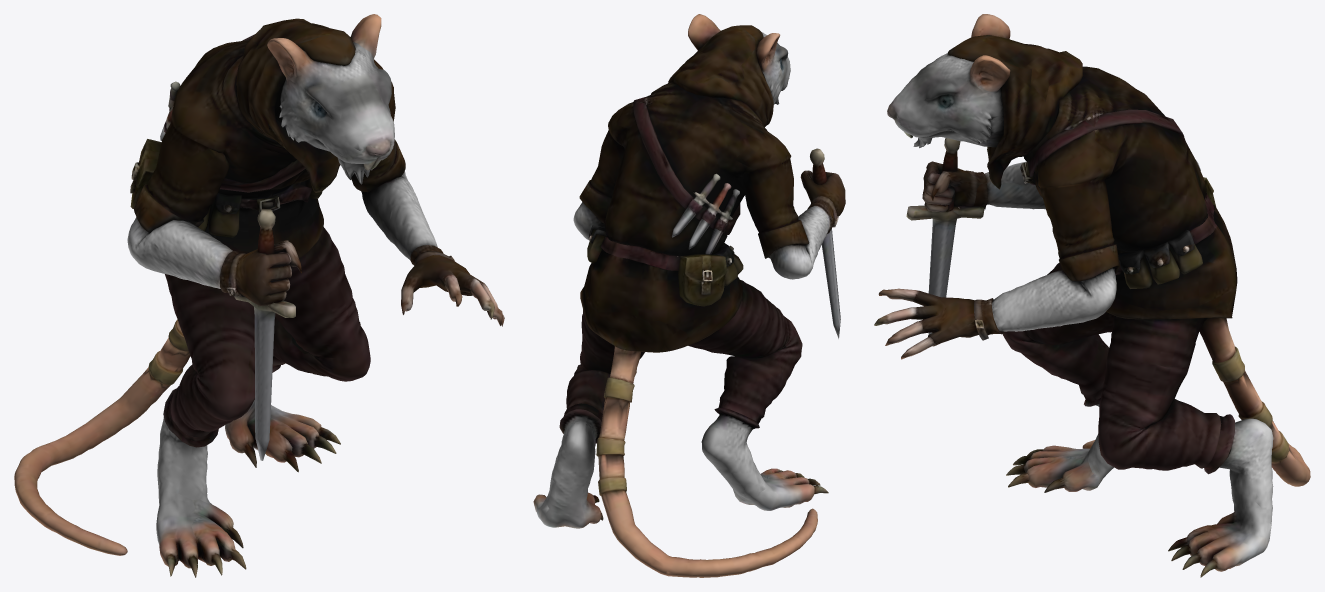
Rendered from MZ4250 - Ratfolk Rogue_BlueMaskedDumbo.glb.
3 views of the same model, side by side, from view 1: azimuth 30°, elevation 25°; view 2: azimuth 150°, elevation 25°; view 3: azimuth 270°, elevation 25° (orthographic). The views are drawn at different scales.
Parts seen in each view (by area): view 1: Ratfolk.001; view 2: Ratfolk.001; view 3: Ratfolk.001.
Boxes of the visible parts, <box> form: Ratfolk.001: <box>14,14,504,577</box>; Ratfolk.001: <box>533,14,845,577</box>; Ratfolk.001: <box>874,14,1310,577</box>.
Size of the model in its own units: 0.3783 by 0.6074 by 0.4927.
1 material, 1 textured.
